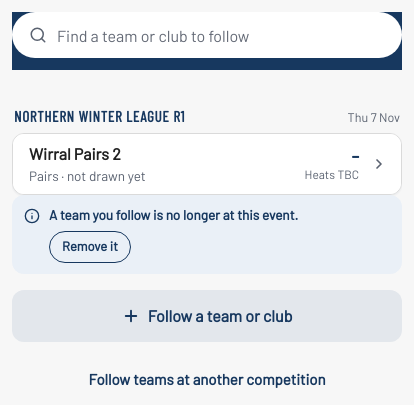
FollowingPage › tells the user about a followed team the event no longer lists
Expected: the text "A team you follow is no longer at this event." is shown, [49,206,298,225]
Click the button "Remove it" at [90, 247], box [49,231,131,263]
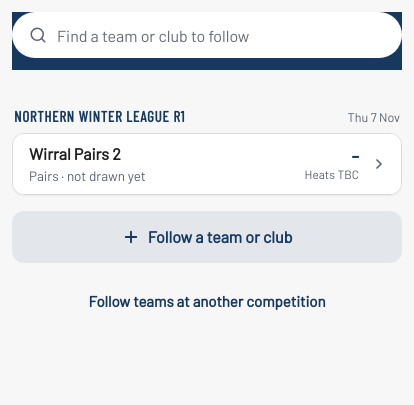
Result: the text "A team you follow is no longer at this event." is gone
